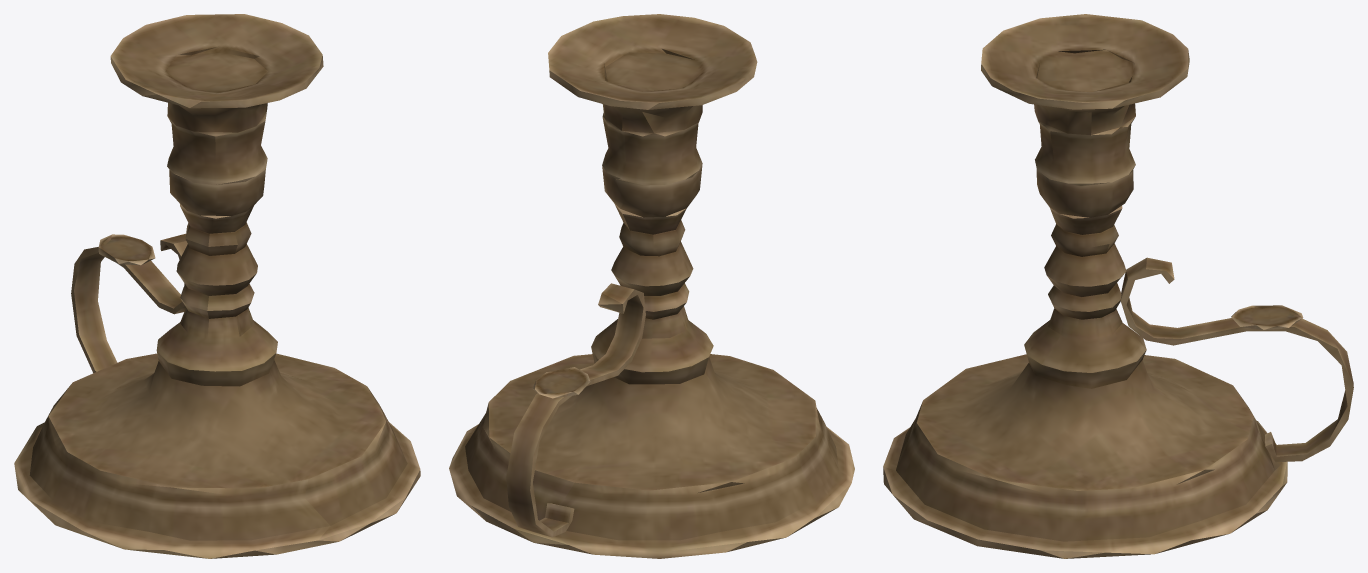
Rendered from candlestick-chamber.lod1.glb.
3 renders of one model, left to right at view 1: azimuth 30°, elevation 25°; view 2: azimuth 150°, elevation 25°; view 3: azimuth 270°, elevation 25°, orthographic.
Parts seen in each view (by area): view 1: candlestick-chamber; view 2: candlestick-chamber; view 3: candlestick-chamber.
Part boxes in pixels (x1,y1,x2,y2): candlestick-chamber: [14, 14, 420, 558]; candlestick-chamber: [449, 14, 854, 558]; candlestick-chamber: [883, 14, 1353, 558].
Bounding box in the file's own units: 0.1211 × 0.1373 × 0.1409.
1 material, 1 textured.
